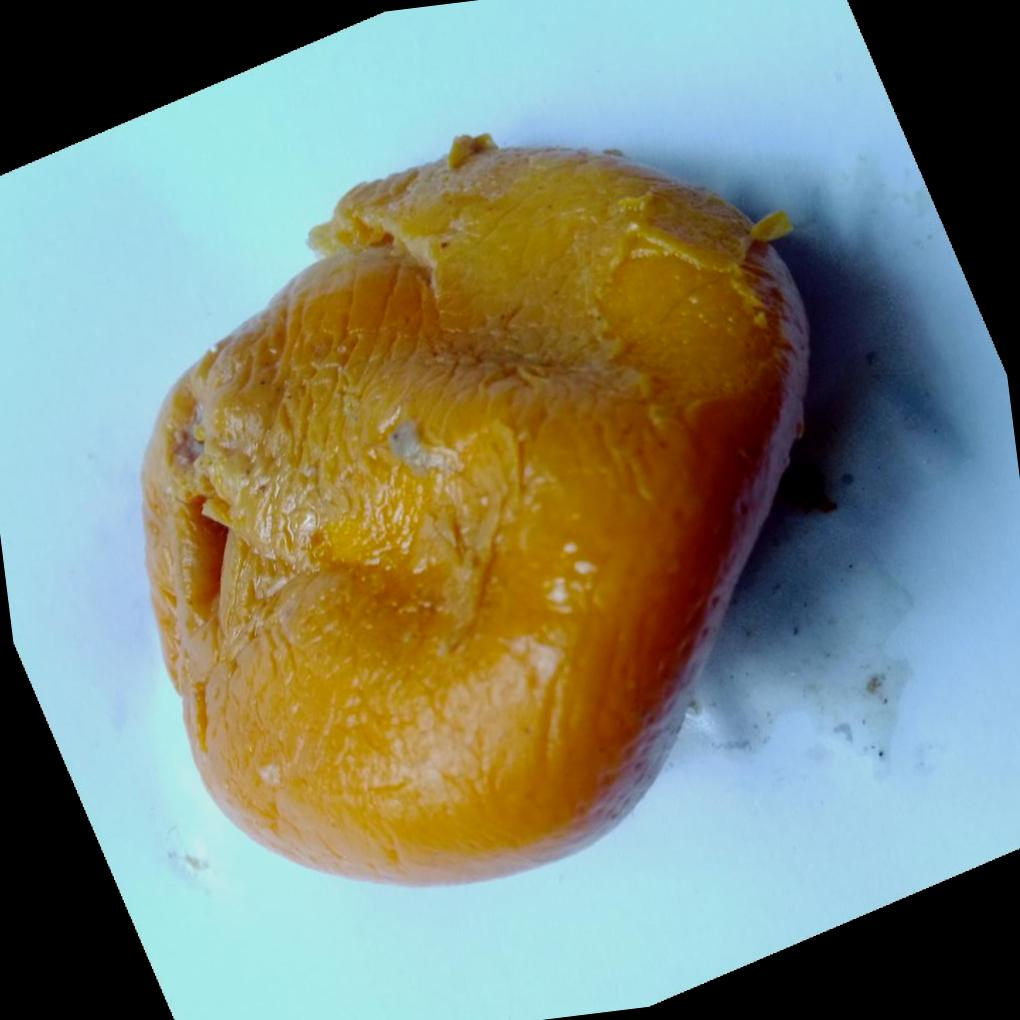FreshOrange: (134, 134, 809, 891)
